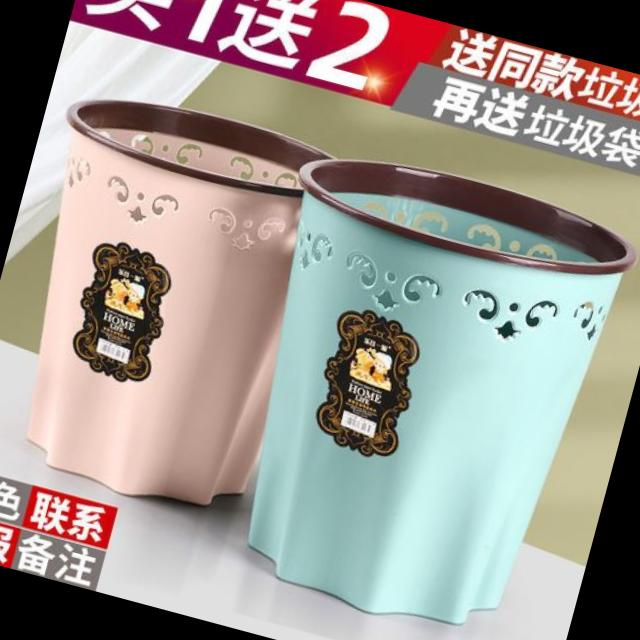dustbin: (193, 130, 640, 640), (0, 72, 364, 535)
